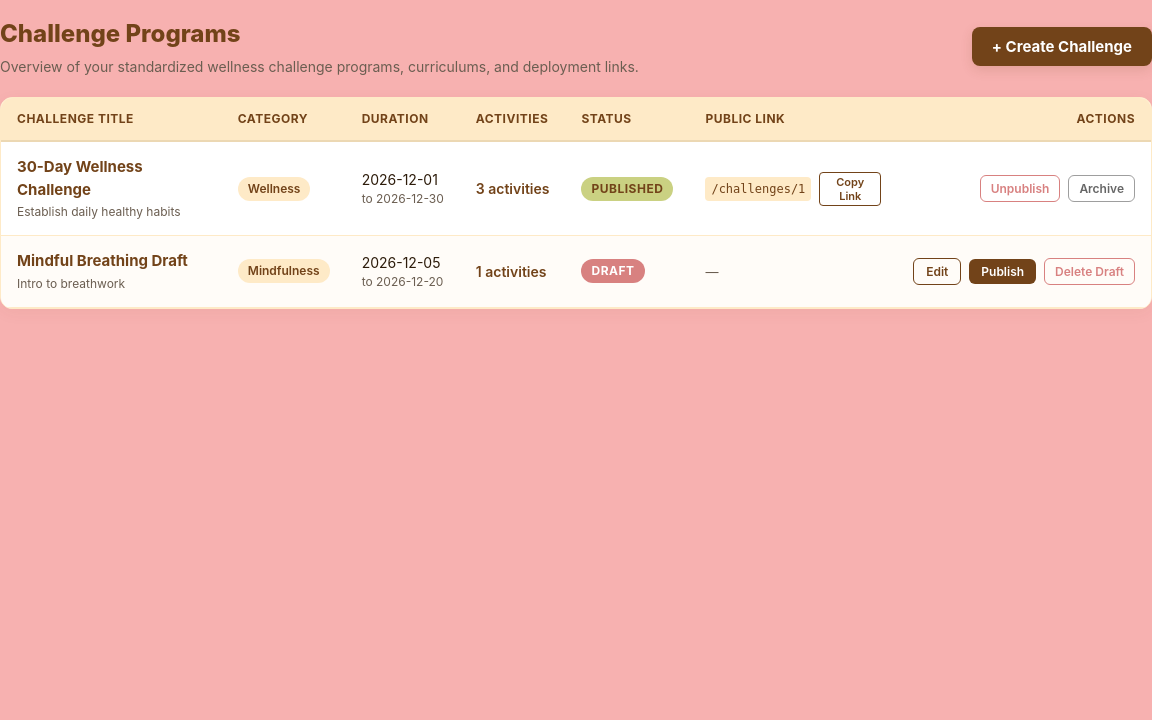
Test: Program Builder Component (UI-07) › renders managed programs list and challenge builder form with required inputs
Expected: the text "30-Day Wellness Challenge" is shown, [17,157,143,198]
Expected: the text "Mindful Breathing Draft" is shown, [17,250,206,272]
# Click + Create Challenge to open modal
Click the button "+ Create Challenge" at (1062, 46), box [972,27,1151,66]
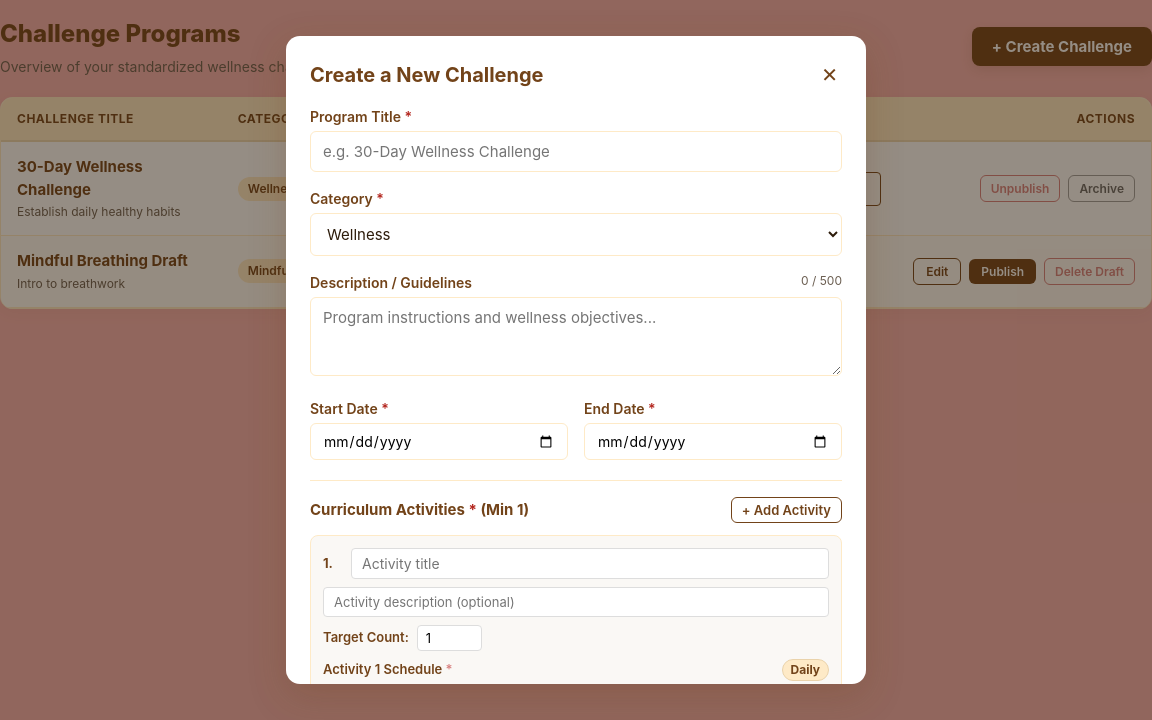
Now the field labelled "Program Title *" is shown, box [310,131,842,172]
Now the dropdown labelled "Category *" is shown, box [310,213,842,256]
Now the text box labelled "Description / Guidelines" is shown, box [310,297,842,376]
